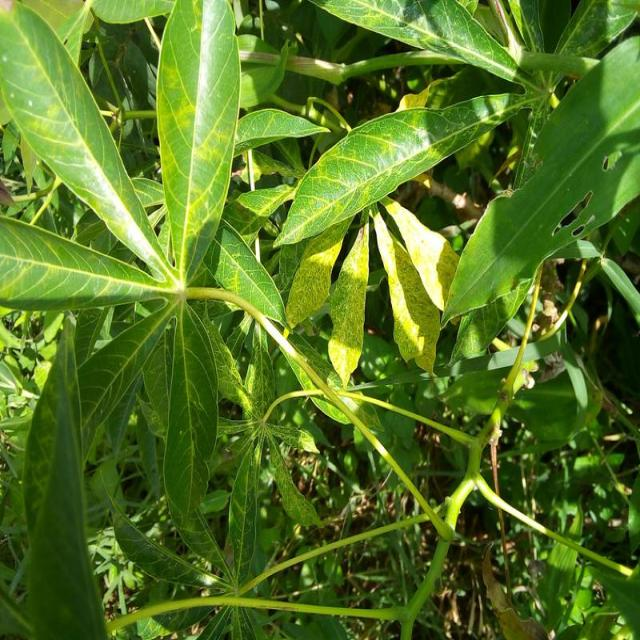cassava leaf: (2, 0, 638, 637), (441, 32, 640, 336), (1, 0, 178, 285), (272, 90, 529, 248), (156, 0, 242, 285)
